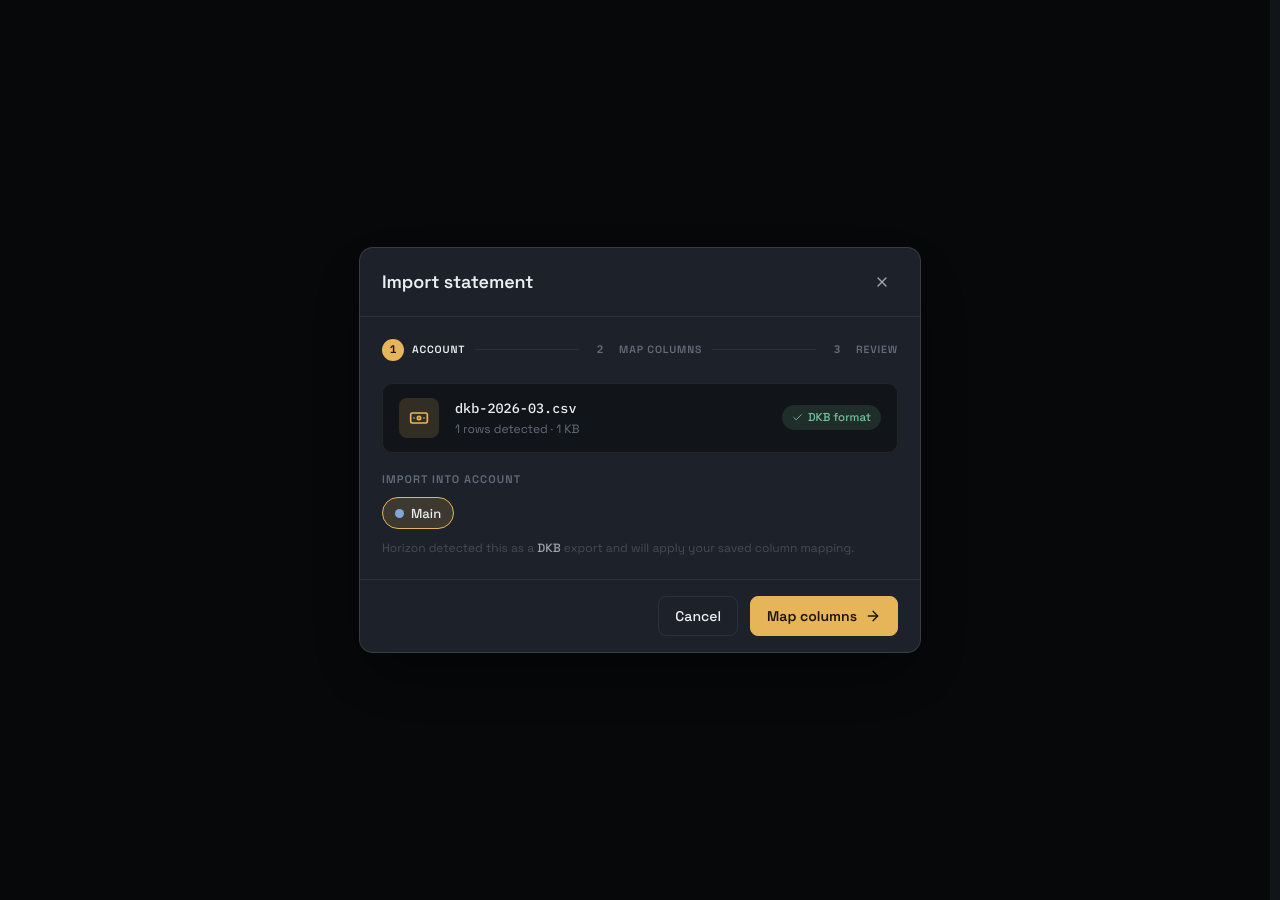
Test: ImportWizard — flags array drives exclusion and badges (#194) › renders both badges on a row that is duplicate and recurring, not just the first
Step 1. Click the button "Map columns" → x=824, y=616, box x1=750 y1=596 x2=898 y2=636
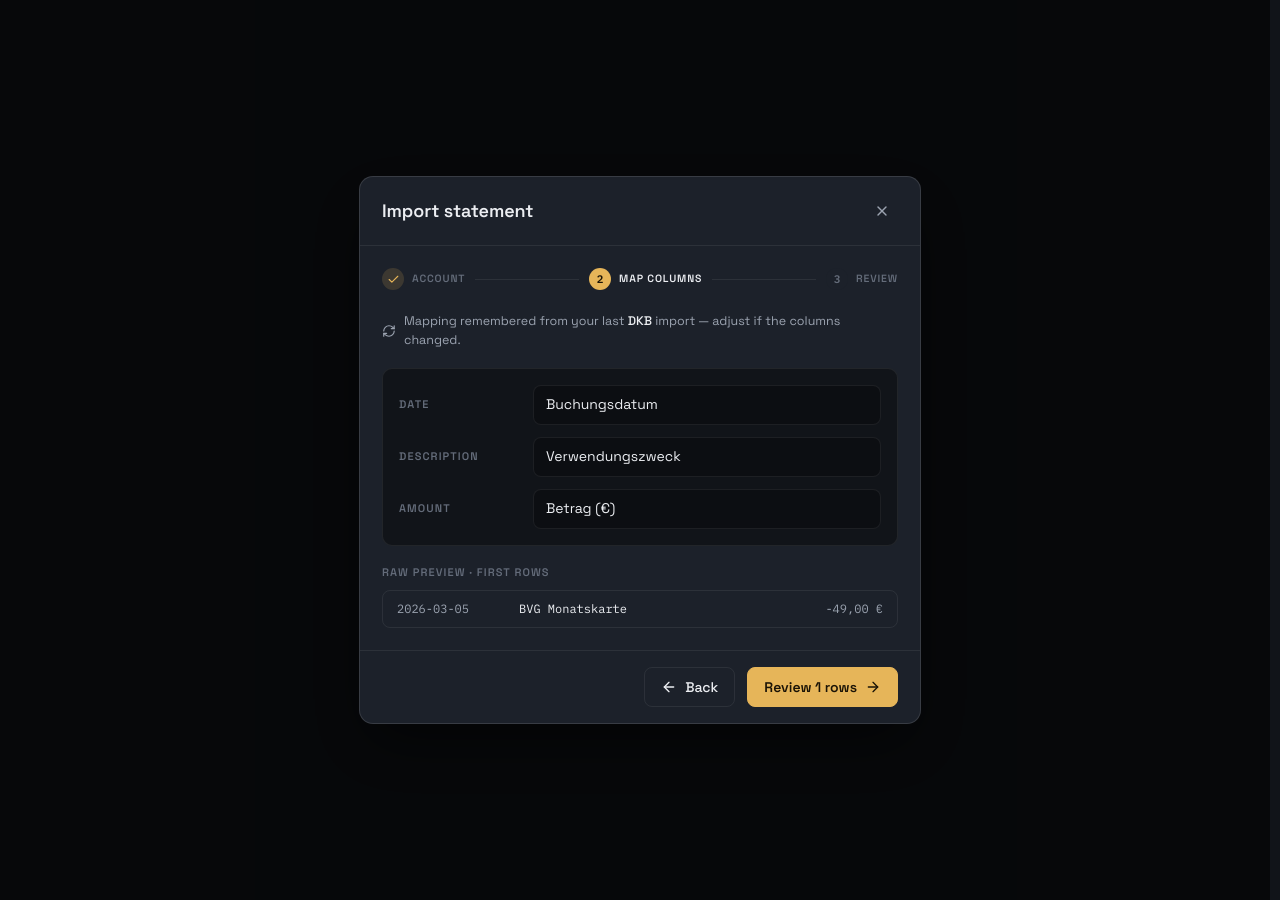
Step 2. Click the button "Review 1 rows" → x=823, y=687, box x1=747 y1=667 x2=898 y2=707
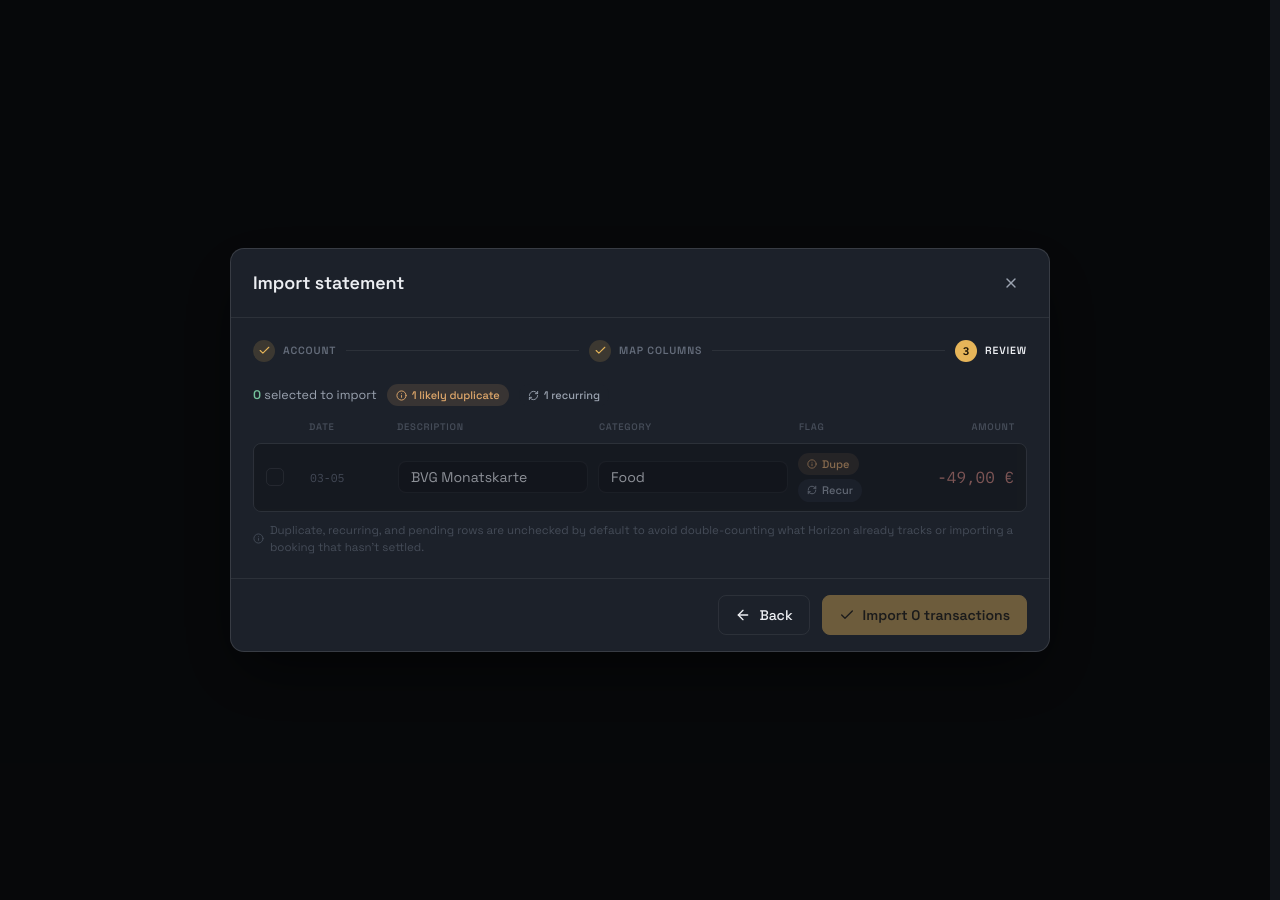
Check: the text "Dupe" is shown, box x1=798 y1=453 x2=858 y2=475
Check: the text "Recur" is shown, box x1=798 y1=479 x2=862 y2=502
